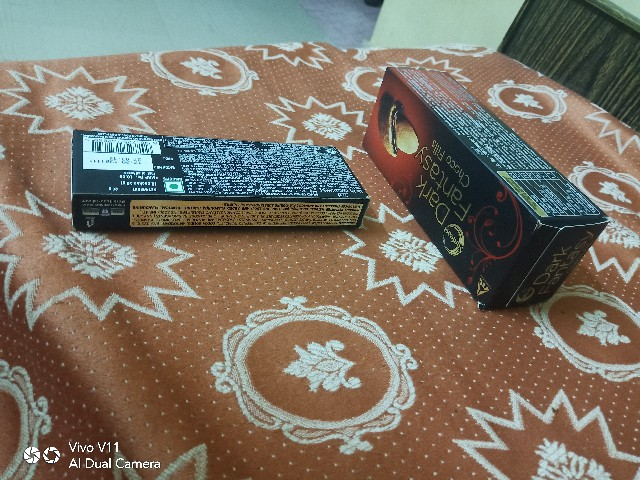darkfantasy big: (367, 59, 613, 339)
darkfantasy small: (55, 109, 371, 263)
